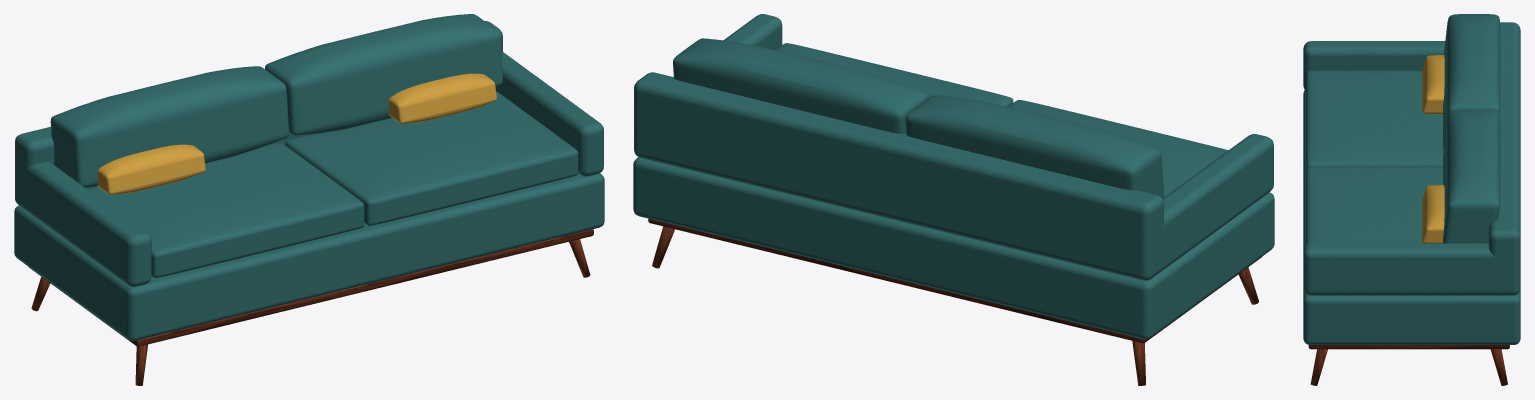
The picture shows the model from 3 angles, left to right: view 1: azimuth 30°, elevation 25°; view 2: azimuth 150°, elevation 25°; view 3: azimuth 270°, elevation 25°; orthographic projection. The views are drawn at different scales.
Visible parts, largest first — view 1: Upholstered body, Seat cushion 2, Seat cushion 1, Back cushion 1, Back cushion 2, Track arm L, Track arm R, Bolster cushion L, Bolster cushion R, Walnut plinth, Back frame; view 2: Back frame, Upholstered body, Back cushion 1, Back cushion 2, Track arm L, Seat cushion 1, Seat cushion 2, Walnut plinth, Track arm R; view 3: Seat cushion 1, Upholstered body, Track arm R, Seat cushion 2, Back cushion 2, Back frame, Back cushion 1, Track arm L, Bolster cushion L, Bolster cushion R, Walnut plinth, Walnut leg RB (+1 smaller).
Boxes of the visible parts, x1,y1,x2,y2 form: Upholstered body: (14, 173, 604, 341); Seat cushion 2: (285, 91, 578, 225); Seat cushion 1: (87, 142, 364, 277); Back cushion 1: (50, 66, 288, 187); Back cushion 2: (265, 14, 502, 135); Track arm L: (15, 162, 151, 286); Track arm R: (495, 51, 603, 176); Bolster cushion L: (97, 144, 205, 194); Bolster cushion R: (388, 73, 496, 123); Walnut plinth: (29, 229, 593, 346); Back frame: (15, 21, 502, 210); Back frame: (634, 72, 1163, 280); Upholstered body: (633, 157, 1274, 339); Back cushion 1: (905, 95, 1164, 198); Back cushion 2: (673, 38, 928, 133); Track arm L: (1130, 134, 1273, 280); Seat cushion 1: (1008, 100, 1228, 196); Seat cushion 2: (775, 43, 1013, 106); Walnut plinth: (648, 218, 1262, 343); Track arm R: (634, 14, 782, 160); Seat cushion 1: (1306, 70, 1443, 173); Upholstered body: (1303, 90, 1520, 344); Track arm R: (1303, 243, 1520, 295); Seat cushion 2: (1306, 166, 1442, 244); Back cushion 2: (1443, 109, 1500, 243); Back frame: (1488, 22, 1520, 295); Back cushion 1: (1443, 14, 1500, 149); Track arm L: (1303, 41, 1445, 90); Bolster cushion L: (1422, 55, 1444, 114); Bolster cushion R: (1422, 185, 1444, 243); Walnut plinth: (1308, 345, 1509, 349); Walnut leg RB: (1490, 349, 1507, 385).
Bounding box in the file's own units: 1.95 × 0.8 × 0.84.
Materials: 3 (3 with a texture image).
